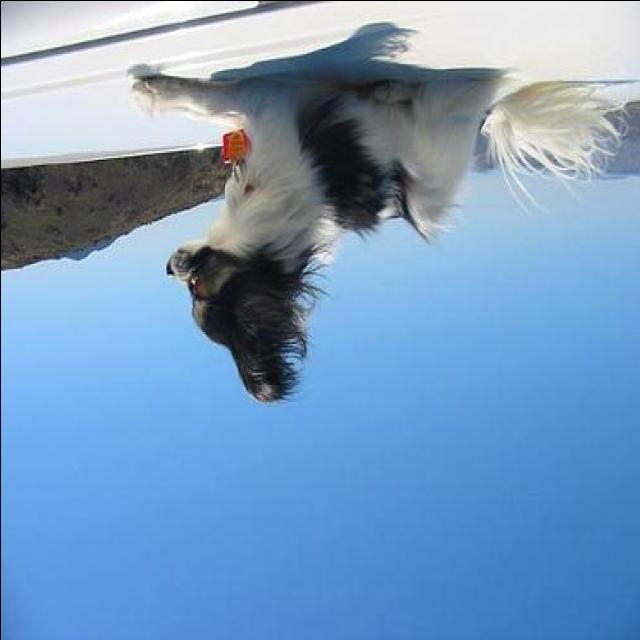papillon: (128, 70, 632, 415)
